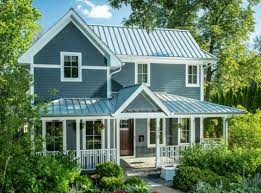Tin-shade House: (19, 3, 243, 158)
